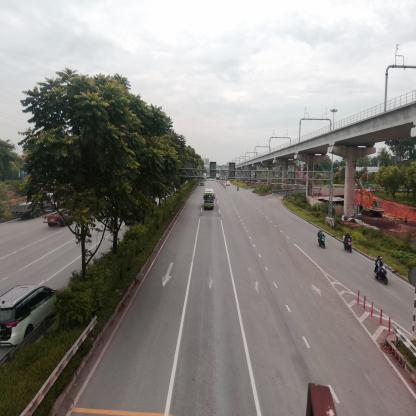bus: (205, 188, 216, 212)
car: (1, 282, 61, 348)
motorbike: (373, 257, 393, 290), (318, 230, 327, 251), (344, 235, 353, 255)
